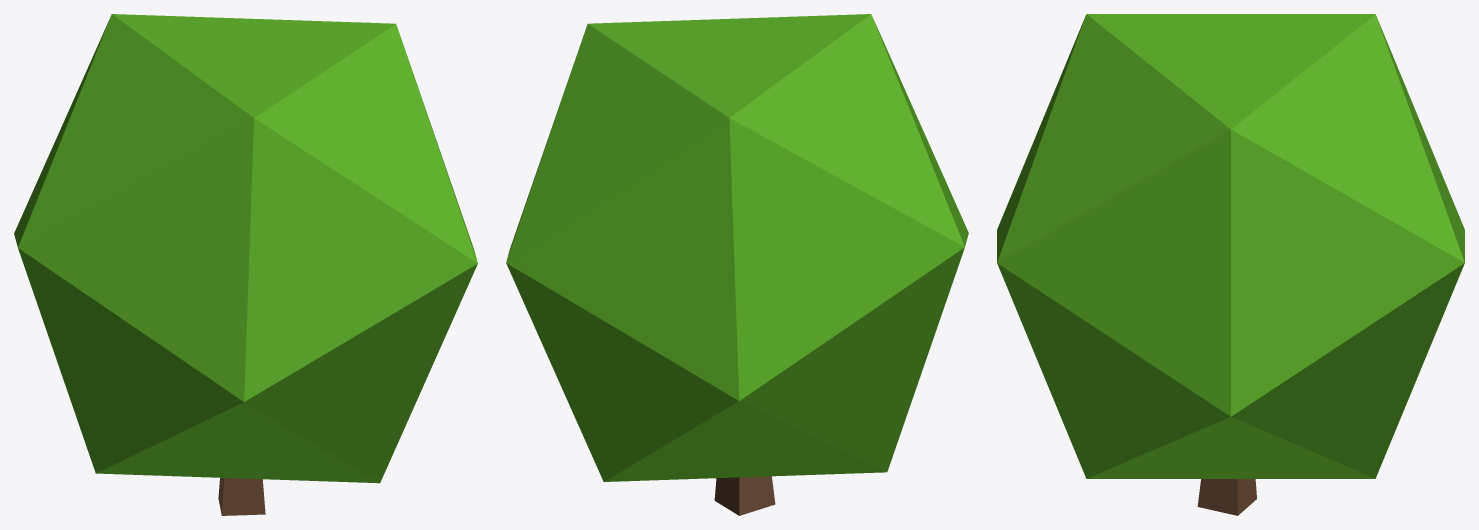
The model's file is bush.fbx.
3 renders of one model, left to right at view 1: azimuth 30°, elevation 25°; view 2: azimuth 150°, elevation 25°; view 3: azimuth 270°, elevation 25°, orthographic.
Parts seen in each view (by area): view 1: bush; view 2: bush; view 3: bush.
Boxes of the visible parts, <box> form: bush: <box>14,14,477,515</box>; bush: <box>506,14,968,515</box>; bush: <box>997,14,1464,515</box>.
Size of the model in its own units: 0.6036 by 0.5735 by 0.5276.
